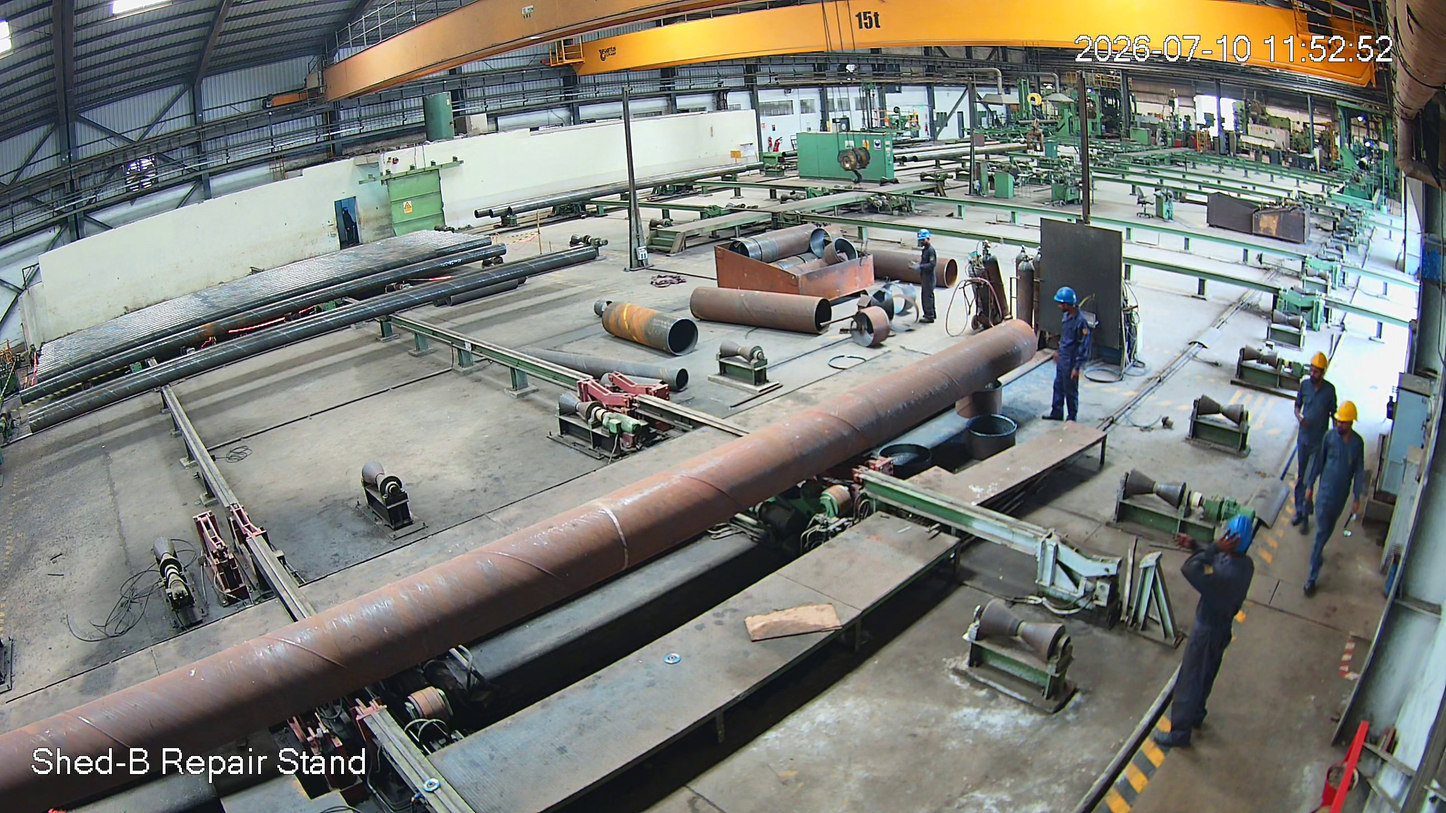Helmet: (1214, 509, 1251, 581), (1047, 281, 1079, 323), (1309, 348, 1332, 395), (1332, 399, 1357, 440), (911, 225, 936, 252)
Person: (1153, 515, 1266, 760), (1304, 404, 1370, 596), (1276, 354, 1343, 524), (1042, 284, 1088, 431), (905, 228, 941, 325)
